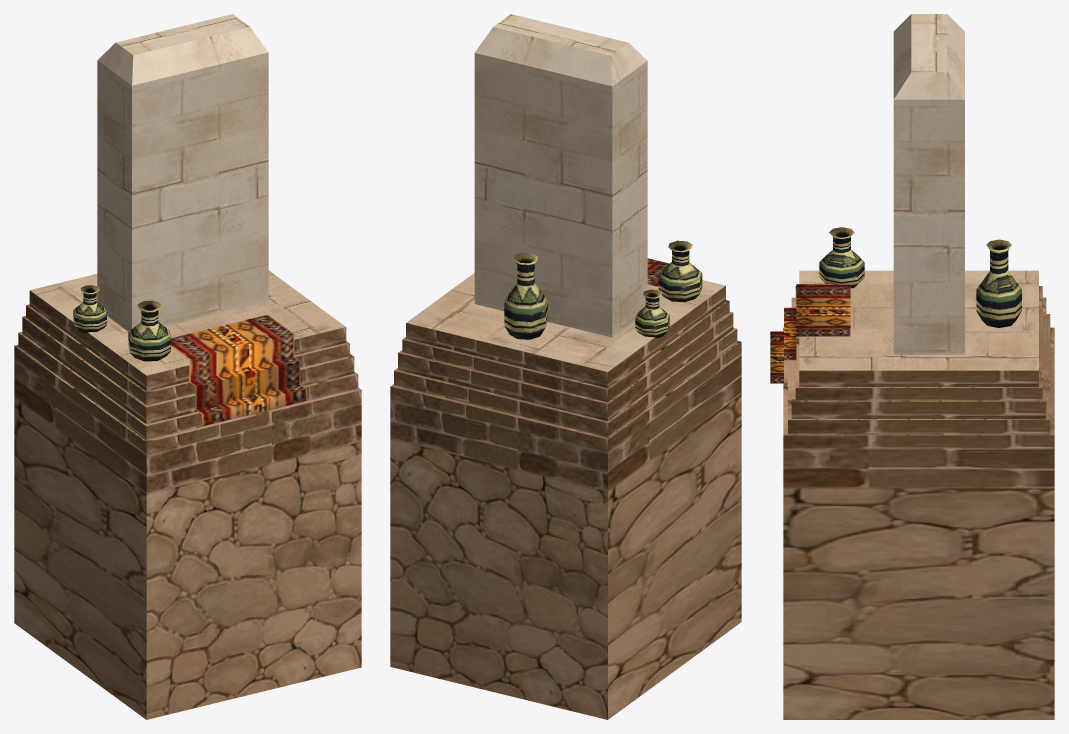
The model's file is zapo_stellas.dae.
3 renders of one model, left to right at view 1: azimuth 30°, elevation 25°; view 2: azimuth 150°, elevation 25°; view 3: azimuth 270°, elevation 25°, orthographic. The views are drawn at different scales.
Parts seen in each view (by area): view 1: STELLA; view 2: STELLA; view 3: STELLA.
Boxes of the visible parts, <box> form: STELLA: <box>14,14,361,719</box>; STELLA: <box>390,14,741,719</box>; STELLA: <box>770,14,1054,719</box>.
Bounding box in the file's own units: 5.56 × 6.21 × 14.99.
